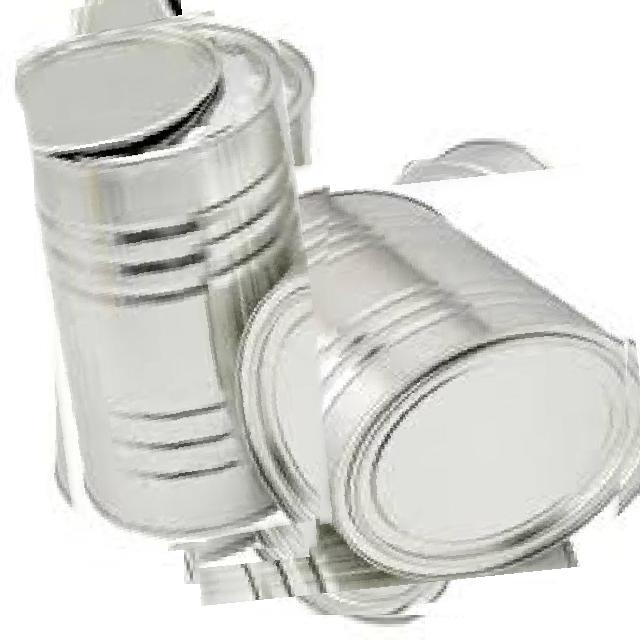recyclable: (195, 149, 640, 615), (34, 18, 335, 554), (38, 0, 232, 177)
